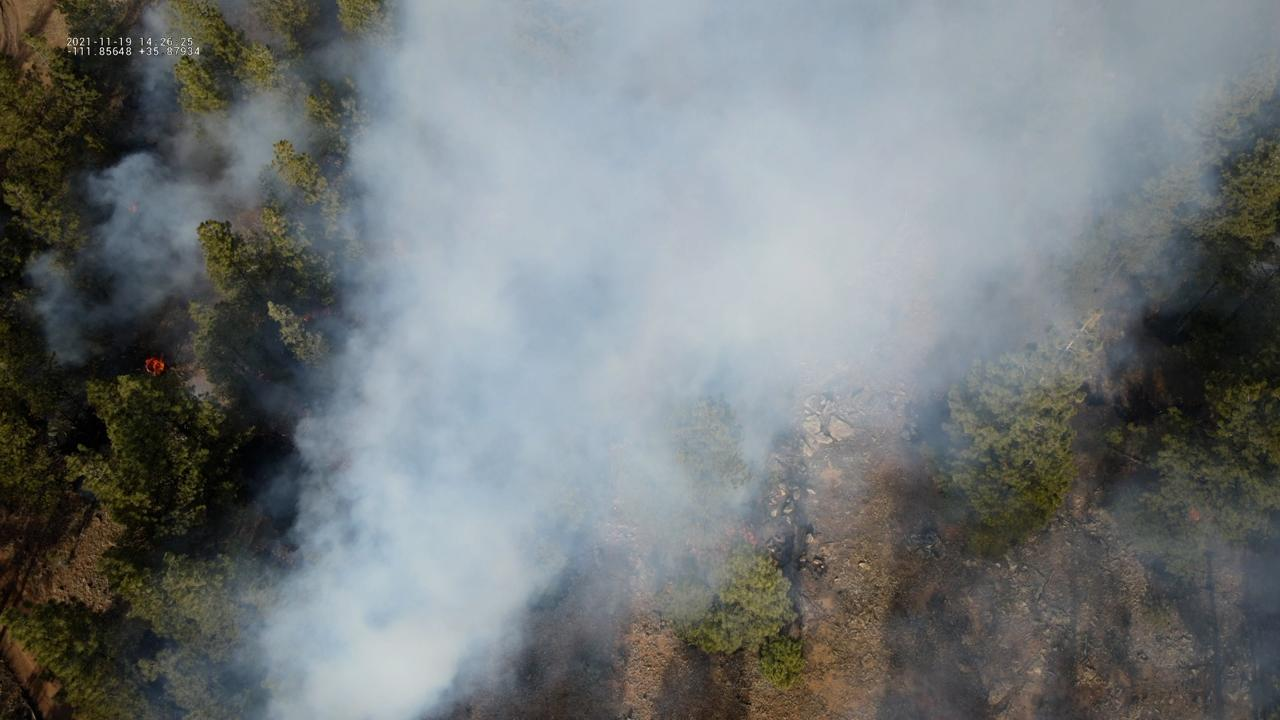fire: (143, 357, 166, 379), (1186, 506, 1203, 524), (127, 204, 141, 214)
smoke: (16, 0, 1280, 720)
